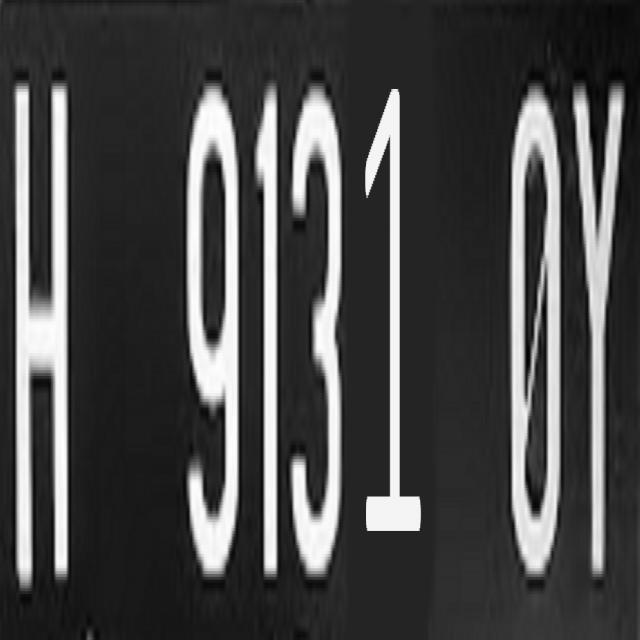1: (346, 63, 430, 564), (246, 70, 290, 600)
3: (288, 43, 346, 594)
9: (170, 63, 242, 588)
H: (0, 55, 82, 599)
O: (491, 73, 566, 580)
Y: (563, 70, 633, 588)
